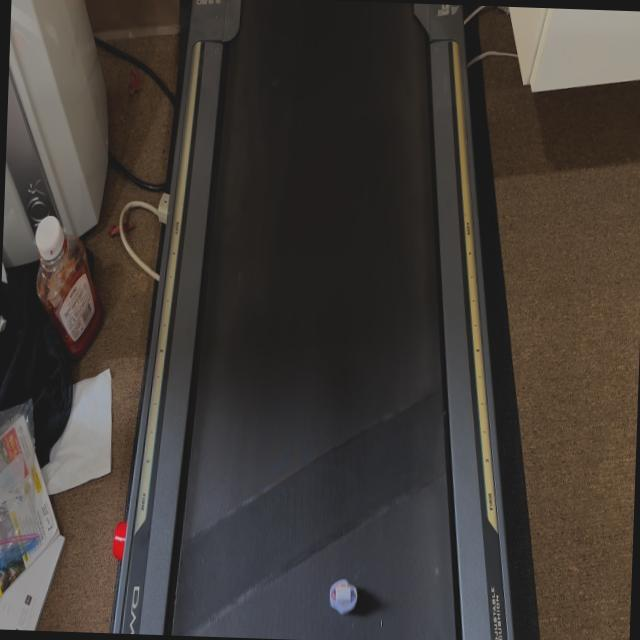Trash: (328, 579, 358, 614)
